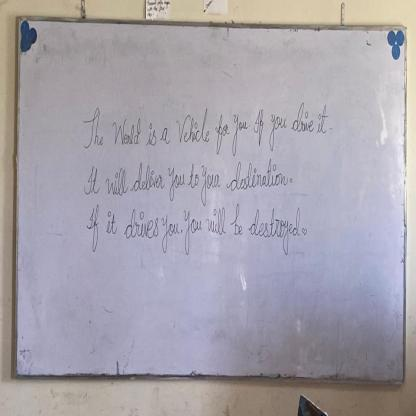Handwritten text: (78, 97, 329, 161), (75, 202, 303, 267), (82, 154, 290, 208)
Whiteboard: (11, 11, 408, 390)
